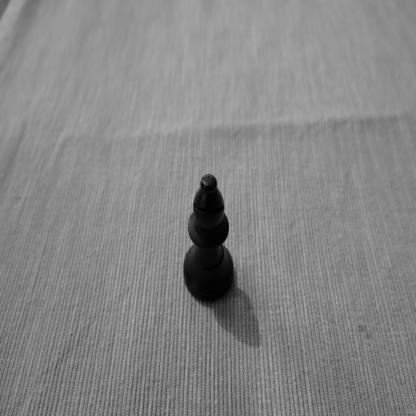black-bishop: (183, 166, 235, 302)
